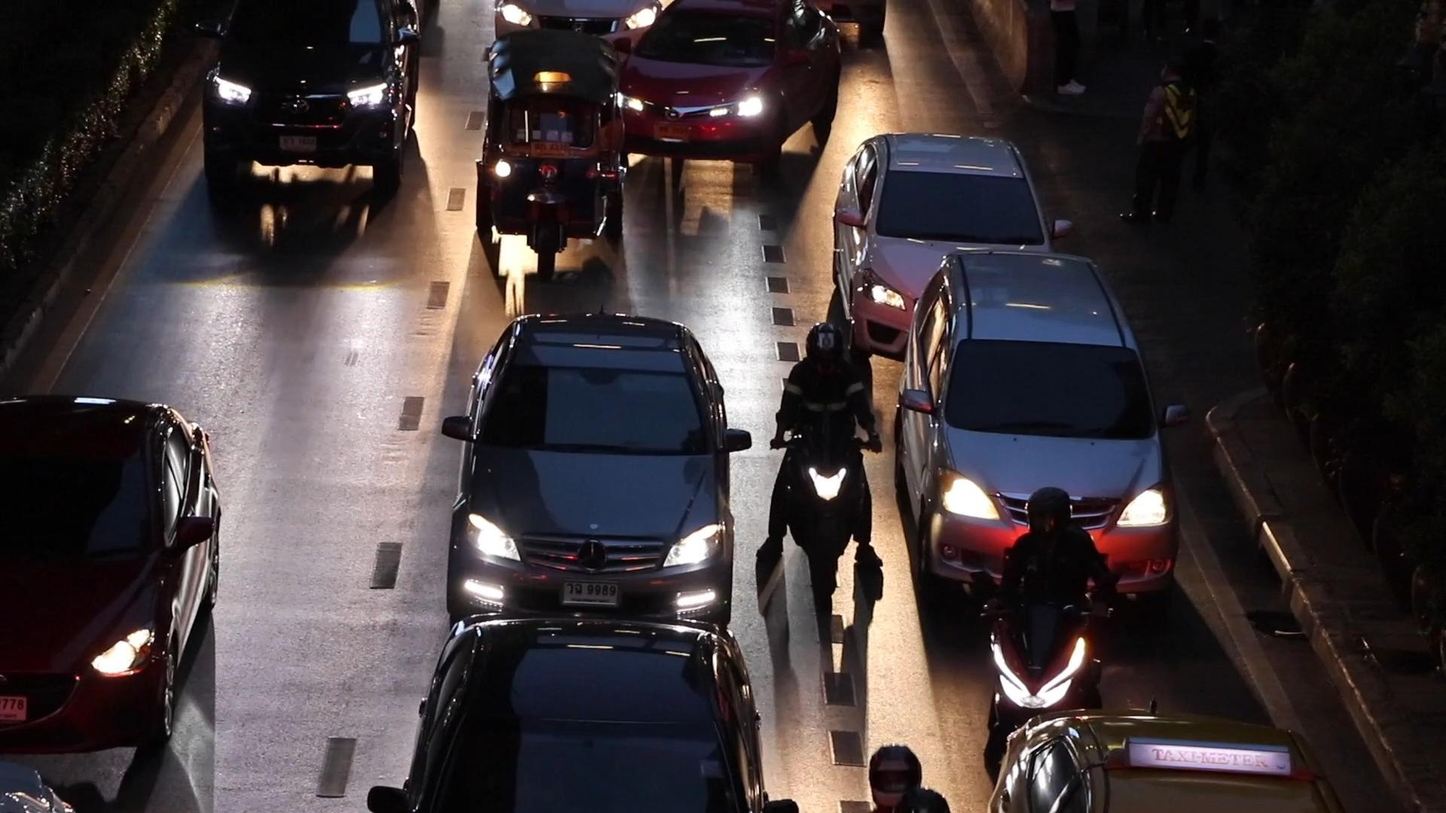driver: (971, 484, 1119, 770), (755, 319, 885, 596)
helmet: (866, 742, 923, 813), (1027, 487, 1072, 555), (804, 321, 845, 377)
